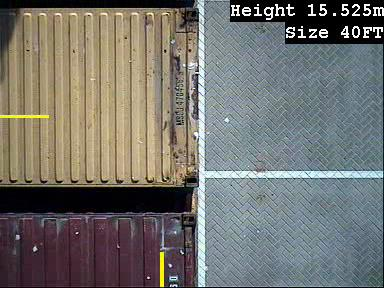groundmarker_2: (199, 219, 233, 282), (198, 50, 231, 114)
